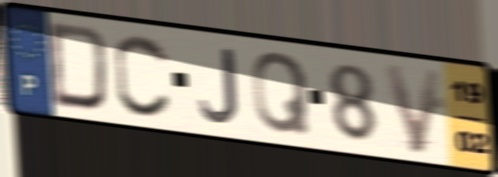8: (324, 61, 382, 144)
C: (111, 31, 175, 121)
D: (47, 19, 112, 115)
J: (196, 46, 242, 126)
Q: (250, 49, 314, 138)
V: (380, 61, 446, 158)
